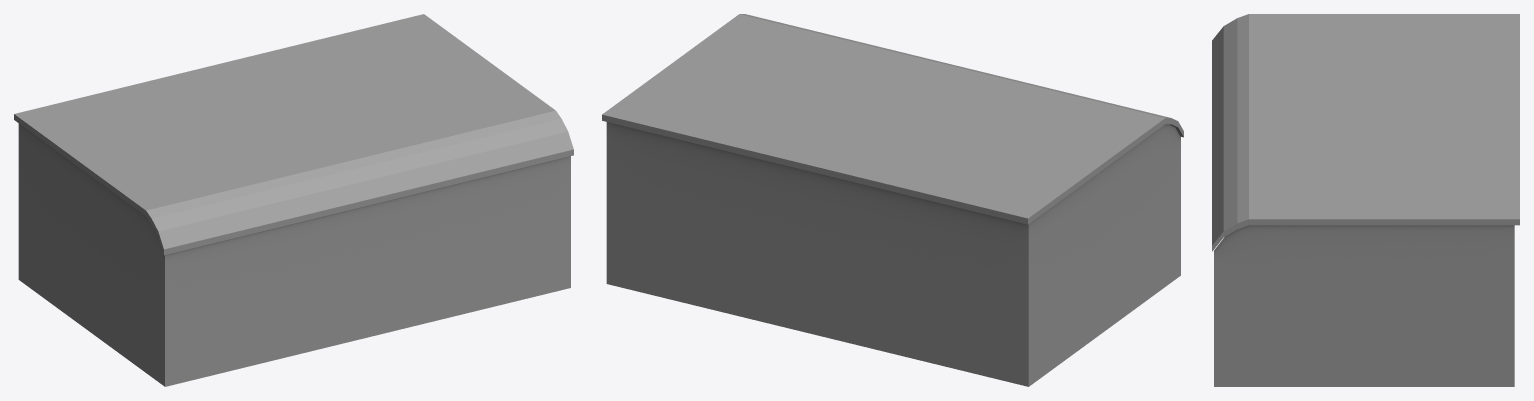
Rendered from freezer.fbx.
The picture shows the model from 3 angles, left to right: view 1: azimuth 30°, elevation 25°; view 2: azimuth 150°, elevation 25°; view 3: azimuth 270°, elevation 25°; orthographic projection. The views are drawn at different scales.
Visible parts, largest first — view 1: Plane; view 2: Plane; view 3: Plane.
Boxes of the visible parts, x1,y1,x2,y2 form: Plane: (14, 14, 573, 386); Plane: (602, 14, 1183, 386); Plane: (1212, 14, 1519, 386).
Size of the model in its own units: 260 by 99.55 by 165.
1 material, 1 textured.
